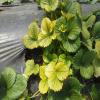Strawberry leaf: (5, 72, 28, 98), (45, 61, 63, 91), (1, 66, 16, 89), (22, 35, 41, 50), (56, 60, 69, 81), (40, 17, 53, 37), (27, 21, 39, 40), (24, 58, 35, 76), (38, 79, 49, 95), (34, 64, 39, 75)
